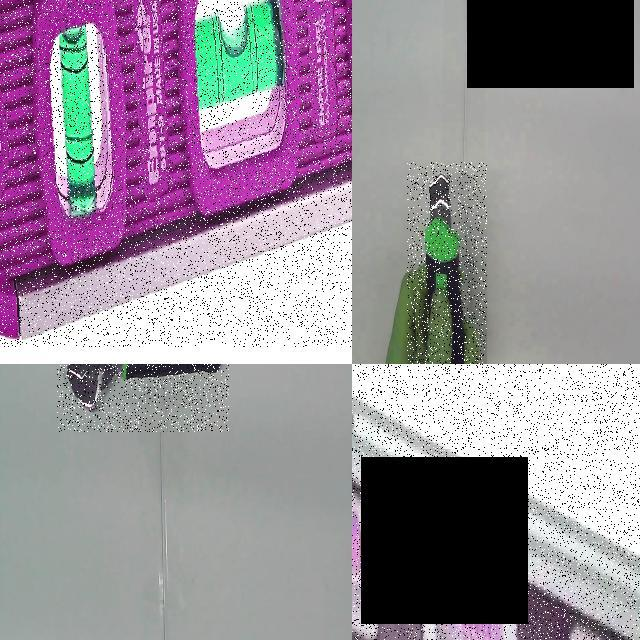estilete: (416, 175, 464, 363)
